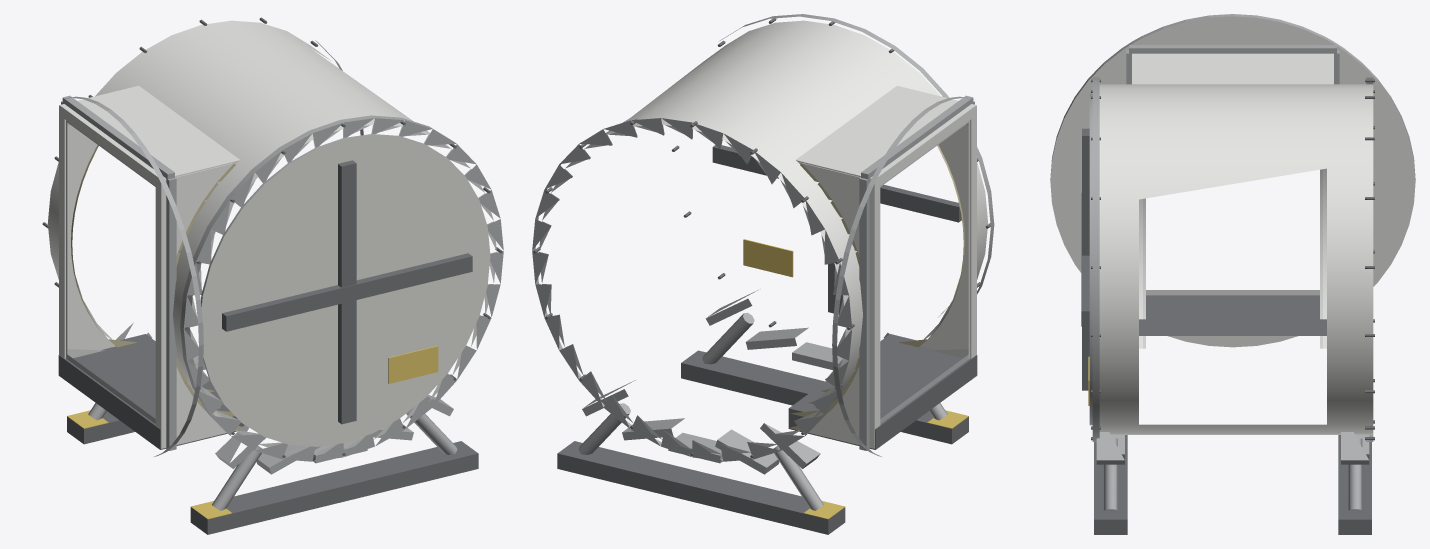
The model's file is habSegJLf_steel.glb.
3 views of the same model, side by side, from view 1: azimuth 30°, elevation 25°; view 2: azimuth 150°, elevation 25°; view 3: azimuth 270°, elevation 25° (orthographic).
Parts seen in each view (by area): view 1: habSegJLf_steel; view 2: habSegJLf_steel; view 3: habSegJLf_steel.
Part boxes in pixels (<box>): habSegJLf_steel: <box>42,17,503,534</box>; habSegJLf_steel: <box>532,14,994,534</box>; habSegJLf_steel: <box>1050,14,1415,534</box>.
Size of the model in its own units: 2.65 by 2.95 by 2.6.
